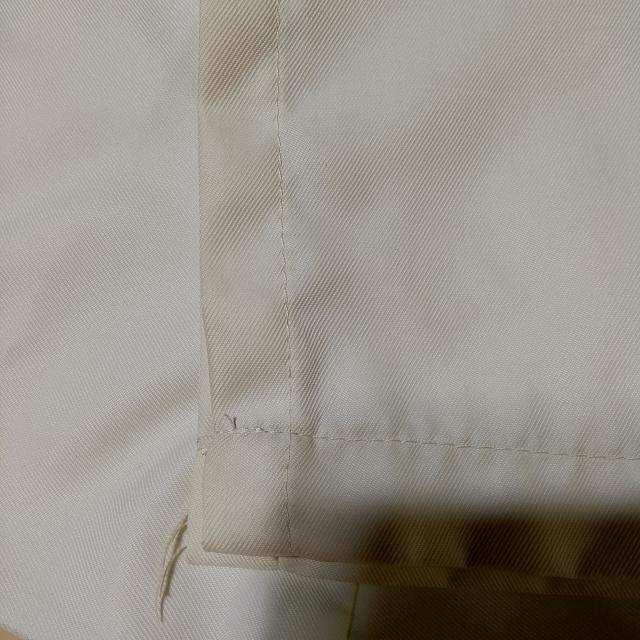education_male_uniform: (278, 0, 635, 615)
